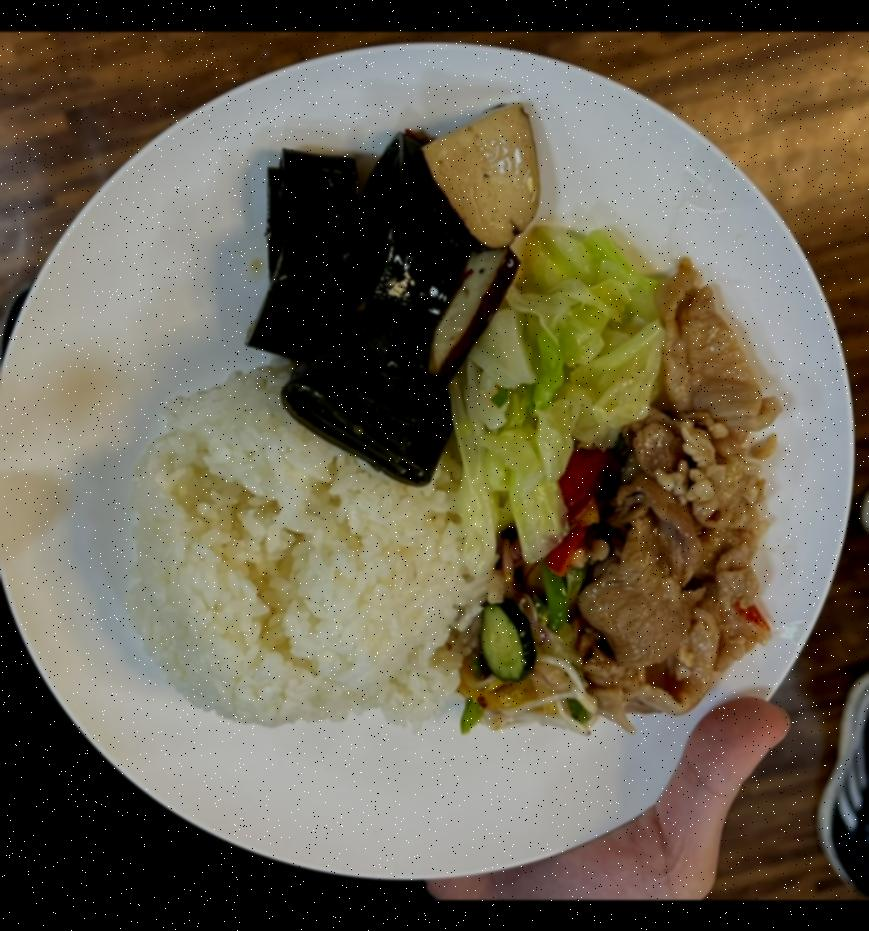garlic white meat: (580, 279, 784, 716)
plate: (0, 37, 856, 900)
side dish: (242, 95, 538, 481), (447, 224, 666, 560), (454, 473, 600, 734)
white rice: (120, 366, 484, 728)
